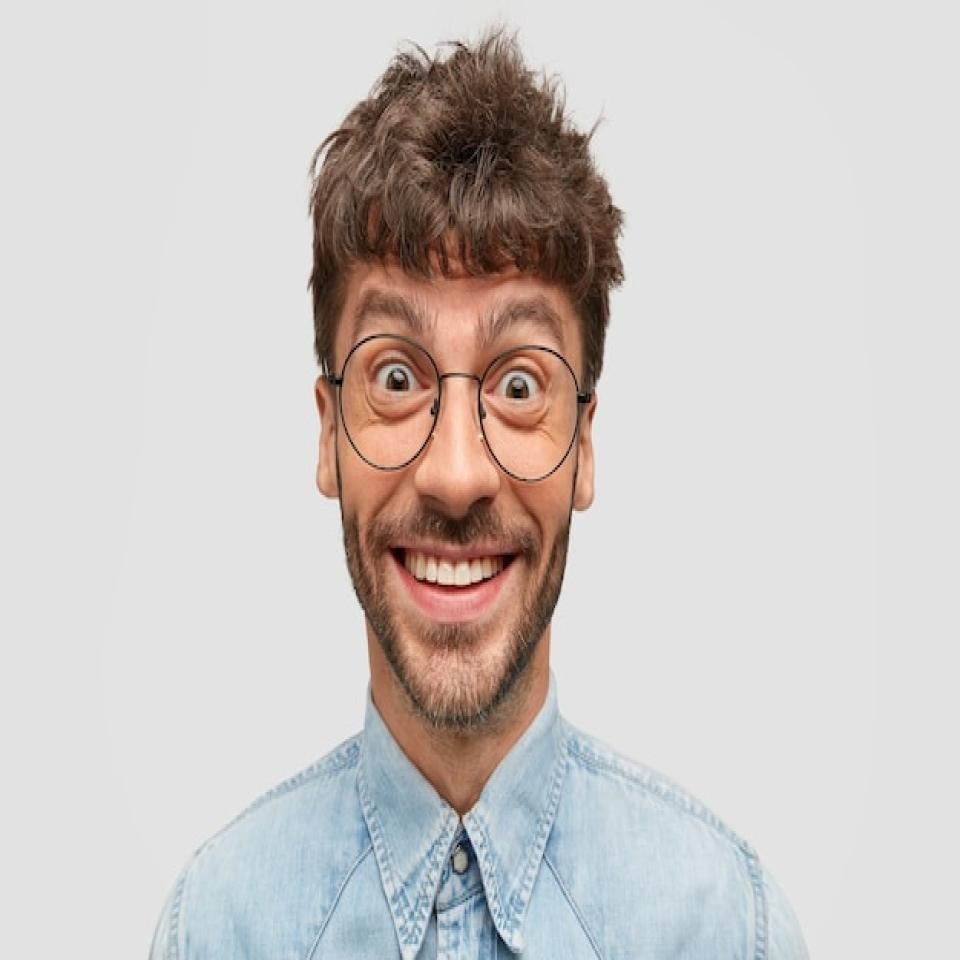Happiness: (336, 202, 583, 727)
